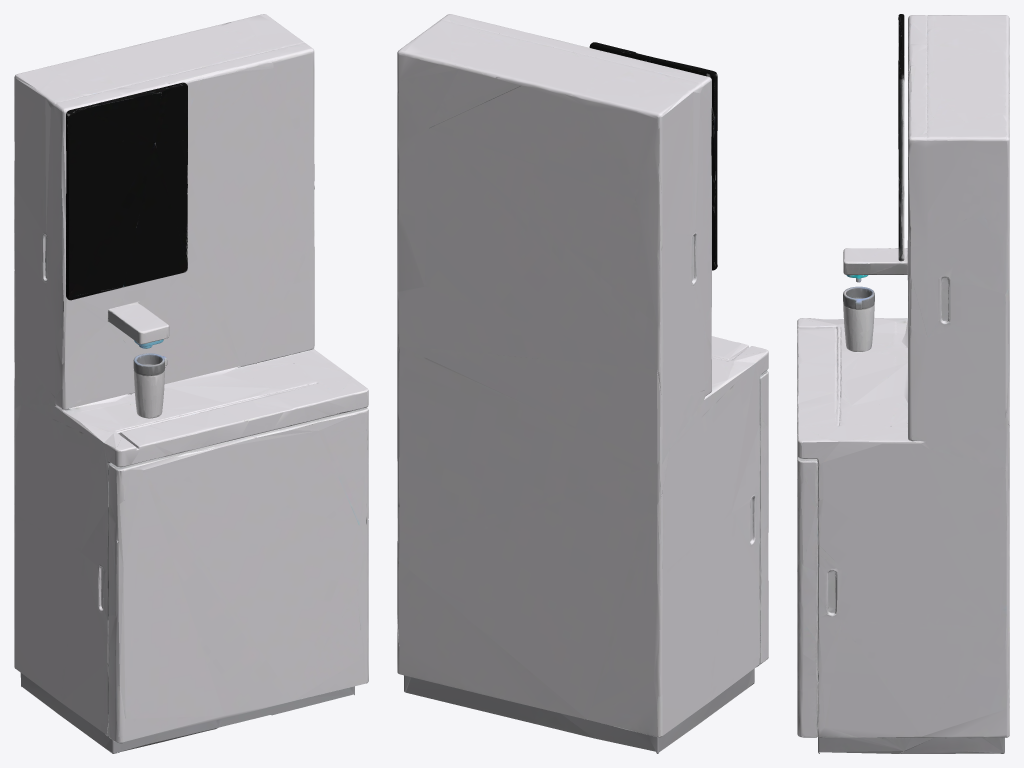
Rendered from dispenser.glb.
3 renders of one model, left to right at view 1: azimuth 30°, elevation 25°; view 2: azimuth 150°, elevation 25°; view 3: azimuth 270°, elevation 25°, orthographic. The views are drawn at different scales.
Size of the model in its own units: 0.8203 by 1.9 by 0.5911.
1 material, 1 textured.
